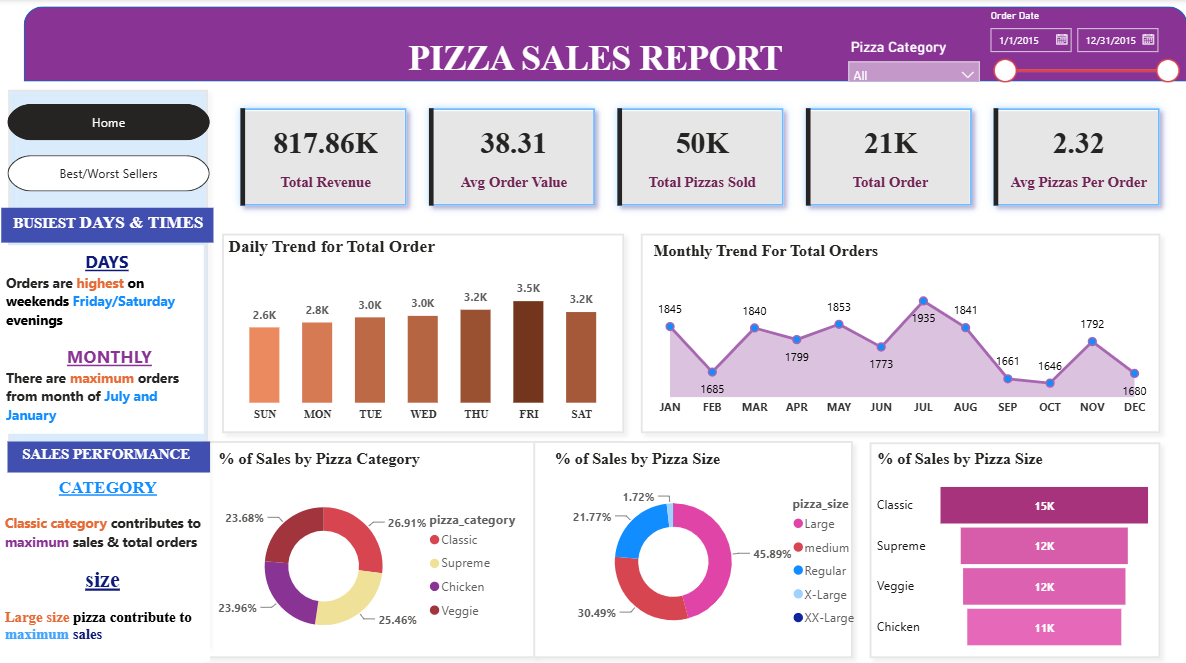

The page's visual inventory and layout, read from the dashboard file:
{"tool":"powerbi","page":{"name":"Home","canvas":[1280,720],"ordinal":0},"visuals":[{"type":"cardVisual","fields":{"Data":["pizza_sales.Total Revenue","pizza_sales.Avg Order Value","pizza_sales.Total Pizzas Sold","pizza_sales.Total Order","pizza_sales.Avg Pizzas Per Order"]},"box":[230.4,88.9,1049.8,163.1],"z":0},{"type":"shape","box":[25.6,8.1,1254.7,80.9],"z":1000},{"type":"textbox","box":[118,318,1162,150],"z":2000},{"type":"textbox","box":[424.5,37.7,514.8,64.7],"z":3000},{"type":"shape","box":[230.4,243.9,451.5,233.1],"z":4000},{"type":"columnChart","title":"Daily Trend for Total Order","fields":{"Category":["pizza_sales.Order Day"],"Y":["pizza_sales.Total Order"]},"box":[241.2,256.1,431.3,206.2],"z":5000},{"type":"shape","box":[681.9,243.9,578.1,233.1],"z":6000},{"type":"areaChart","title":"Monthly Trend For Total Orders","fields":{"Category":["pizza_sales.Order Month"],"Y":["pizza_sales.Total Order"]},"box":[699.4,261.4,547.1,196.8],"z":7000},{"type":"shape","box":[210.2,467.6,376,252],"z":8000},{"type":"shape","box":[566,467.6,362.5,252],"z":9000},{"type":"shape","box":[928.5,469,331.5,250.7],"z":10000},{"type":"donutChart","title":"% of Sales by Pizza Category","fields":{"Category":["pizza_sales.pizza_category"],"Y":["pizza_sales.Total Revenue"]},"box":[230.4,486.5,346.3,219.7],"z":11000},{"type":"donutChart","title":"% of Sales by Pizza Size","fields":{"Y":["pizza_sales.Total Revenue"],"Series":["pizza_sales.pizza_size"]},"box":[593,486.5,346.3,210.2],"z":12000},{"type":"funnel","title":"% of Sales by Pizza Size","fields":{"Y":["pizza_sales.Total Pizzas Sold"],"Category":["pizza_sales.pizza_category"]},"box":[940.7,486.5,307.3,219.7],"z":13000},{"type":"shape","box":[0,88.9,233.1,617.2],"z":14000},{"type":"textbox","box":[1.3,225.1,229.1,37.7],"z":15000},{"type":"textbox","box":[1.3,265.5,218.3,203.5],"z":16000},{"type":"textbox","box":[8.1,477.1,218.3,33.7],"z":17000},{"type":"textbox","box":[0,510.8,226.4,203.5],"z":18000},{"type":"slicer","fields":{"Values":["pizza_sales.pizza_category"]},"box":[904.3,37.7,161.7,51.2],"z":19000},{"type":"slicer","fields":{"Values":["pizza_sales.order_date"]},"box":[1055.2,6.7,225.1,95.7],"z":20000},{"type":"pageNavigator","box":[8.1,113.2,218.3,39.1],"z":20001},{"type":"pageNavigator","box":[8.1,168.5,218.3,39.1],"z":20002}]}

Visuals, with their boxes in screenshot pixels (x1, y1, x2, y2), scaled from the page's 1280x720 canvas onto the 1186x663 screenshot:
cardVisual - pizza_sales.Total Revenue x pizza_sales.Avg Order Value: 213/82/1185/232
shape: 24/7/1185/82
textbox: 109/293/1185/431
textbox: 393/35/870/94
shape: 213/225/632/439
"Daily Trend for Total Order" columnChart: 223/236/623/426
shape: 632/225/1167/439
"Monthly Trend For Total Orders" areaChart: 648/241/1155/422
shape: 195/431/543/662
shape: 524/431/860/662
shape: 860/432/1167/662
"% of Sales by Pizza Category" donutChart: 213/448/534/650
"% of Sales by Pizza Size" donutChart: 549/448/870/642
"% of Sales by Pizza Size" funnel: 872/448/1156/650
shape: 0/82/216/650
textbox: 1/207/213/242
textbox: 1/244/203/432
textbox: 8/439/210/470
textbox: 0/470/210/658
slicer - pizza_sales.pizza_category: 838/35/988/82
slicer - pizza_sales.order_date: 978/6/1185/94
pageNavigator: 8/104/210/140
pageNavigator: 8/155/210/191
